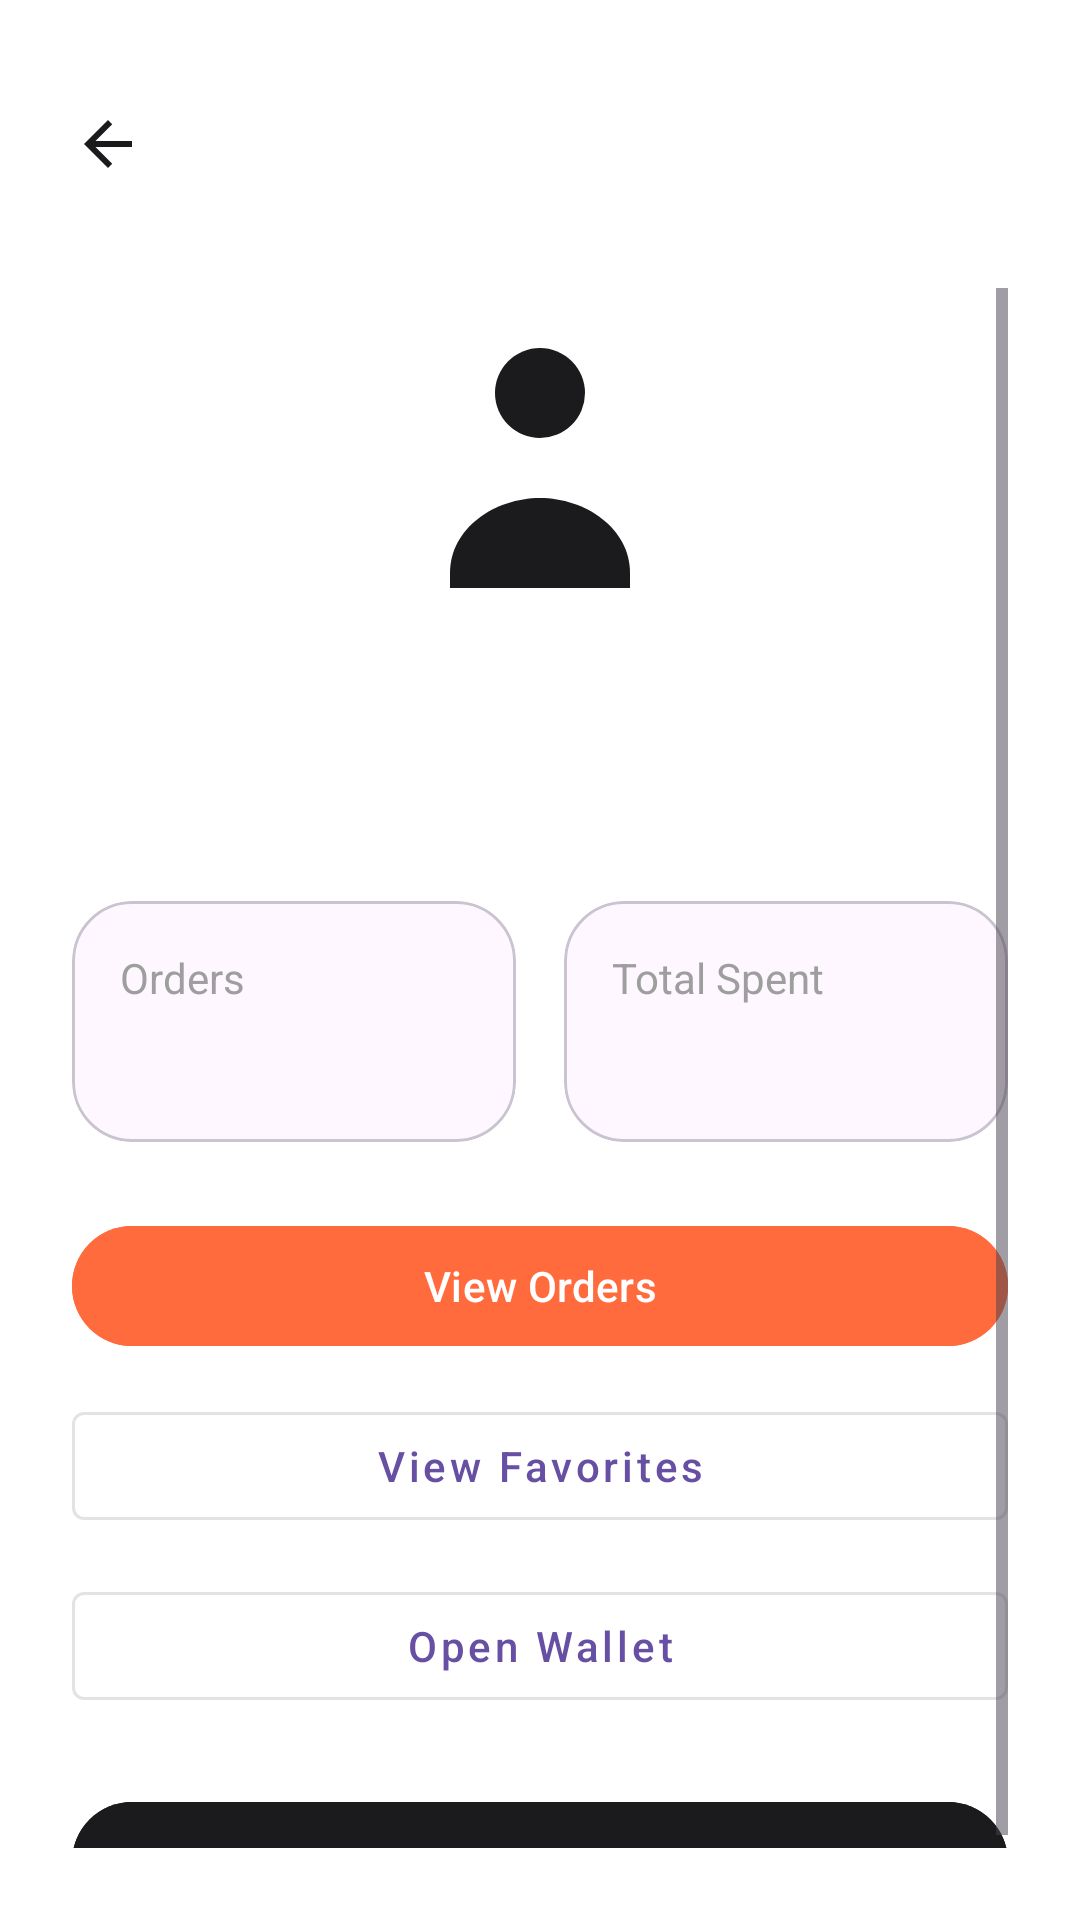

Where icons sit on this 1080px×1920px app screen, as (x1, y1, x2, y2):
anim profile: (450, 348, 630, 588)
